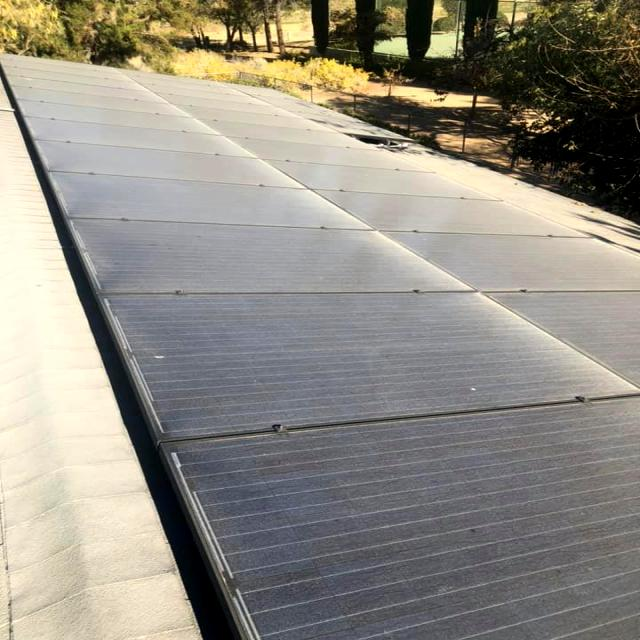dust: (416, 420, 640, 640), (182, 433, 385, 640), (104, 292, 336, 423), (67, 163, 236, 290), (360, 288, 520, 406), (269, 165, 417, 288), (14, 60, 179, 150), (446, 172, 548, 286), (207, 74, 343, 151), (549, 294, 634, 398)
